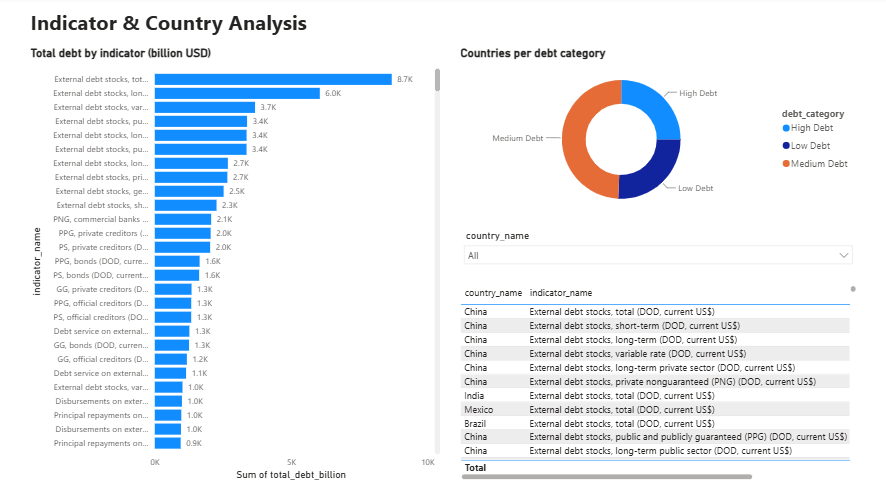

The page's visual inventory and layout, read from the dashboard file:
{"tool":"powerbi","page":{"name":"Indicator Analysis","canvas":[1280,720],"ordinal":1},"visuals":[{"type":"textbox","box":[40,10,900,55],"z":0},{"type":"clusteredBarChart","title":"Total debt by indicator (billion USD)","fields":{"Category":["indicator_debt_summary.indicator_name"],"Y":["Sum(indicator_debt_summary.total_debt_billion)"]},"box":[40,70,600,630],"z":1},{"type":"donutChart","title":"Countries per debt category","fields":{"Category":["debt_categories.debt_category"],"Y":["Sum(debt_categories.country_count)"]},"box":[660,70,580,250],"z":2},{"type":"slicer","title":"Select country","fields":{"Values":["country_indicator_matrix.country_name"]},"box":[660,330,580,70],"z":3},{"type":"tableEx","title":"Country x indicator detail (billion USD)","fields":{"Values":["country_indicator_matrix.country_name","country_indicator_matrix.indicator_name","Sum(country_indicator_matrix.debt_billion)"]},"box":[660,410,580,290],"z":4}]}

Visuals, with their boxes in screenshot pixels (x1, y1, x2, y2), scaled from the page's 1280x720 canvas onto the 886x495 screenshot:
textbox: 28:7:651:45
"Total debt by indicator (billion USD)" clusteredBarChart: 28:48:443:481
"Countries per debt category" donutChart: 457:48:858:220
"Select country" slicer: 457:227:858:275
"Country x indicator detail (billion USD)" tableEx: 457:282:858:481
